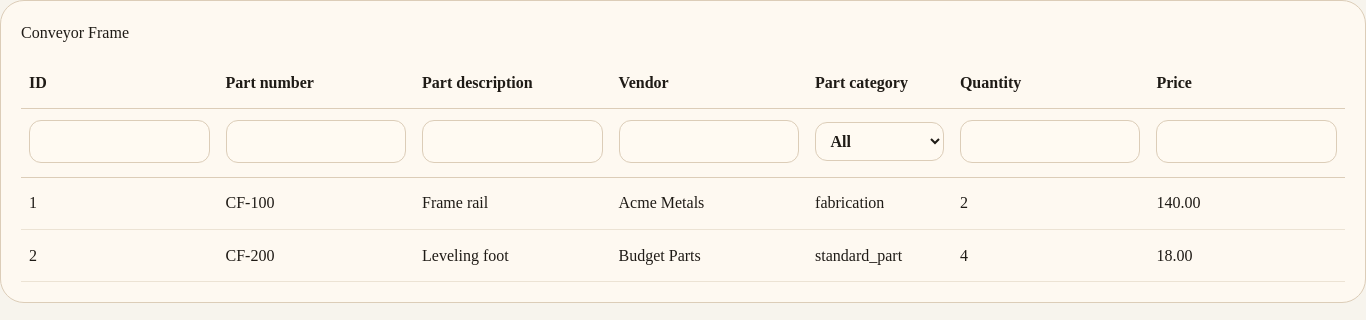
Test case: renders bom header filters and filters rows within a module
Expected: the field named "conveyor frame id filter" is shown, 29,120 -> 210,163
Expected: the field named "conveyor frame part number filter" is shown, 226,120 -> 406,163
Type "acme" into the field named "conveyor frame vendor filter" at (709, 141), box 618,120 -> 799,163
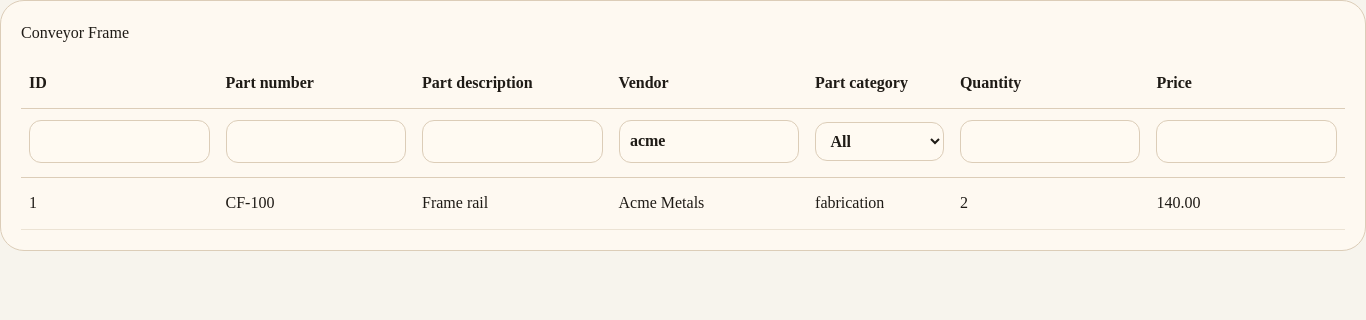
Expected: the text "CF-100" is shown, 218,177 -> 414,230
Expected: the text "CF-200" is gone
Clear the field named "conveyor frame vendor filter" at (709, 141), box 618,120 -> 799,163
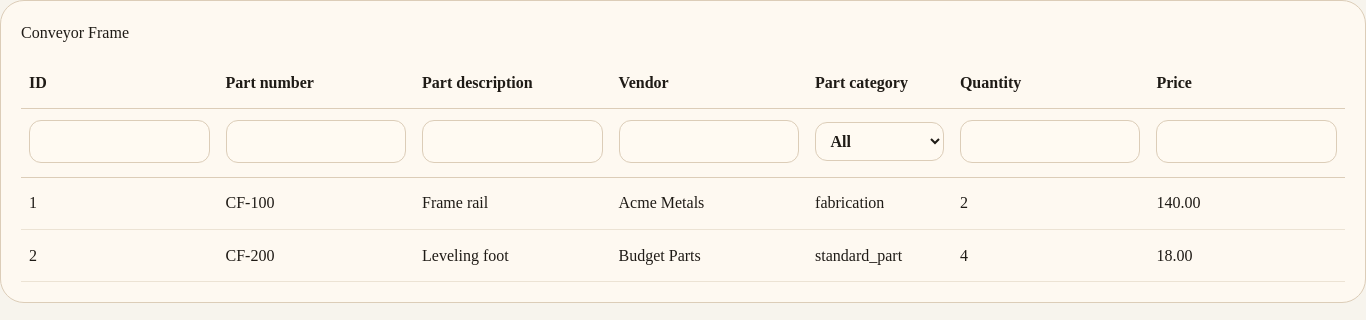
Select "standard_part" in the dropdown named "conveyor frame part category filter" at (880, 141), box 815,122 -> 944,161
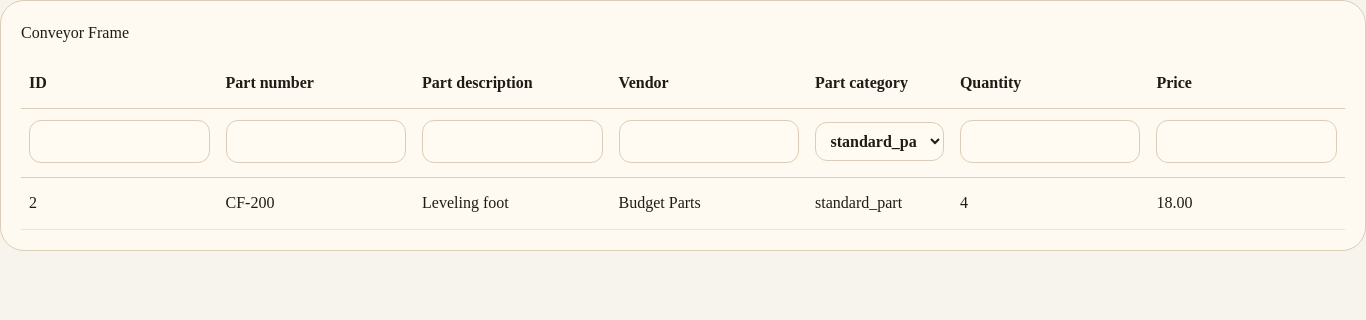
Expected: the text "CF-200" is shown, 218,177 -> 414,230
Expected: the text "CF-100" is gone
